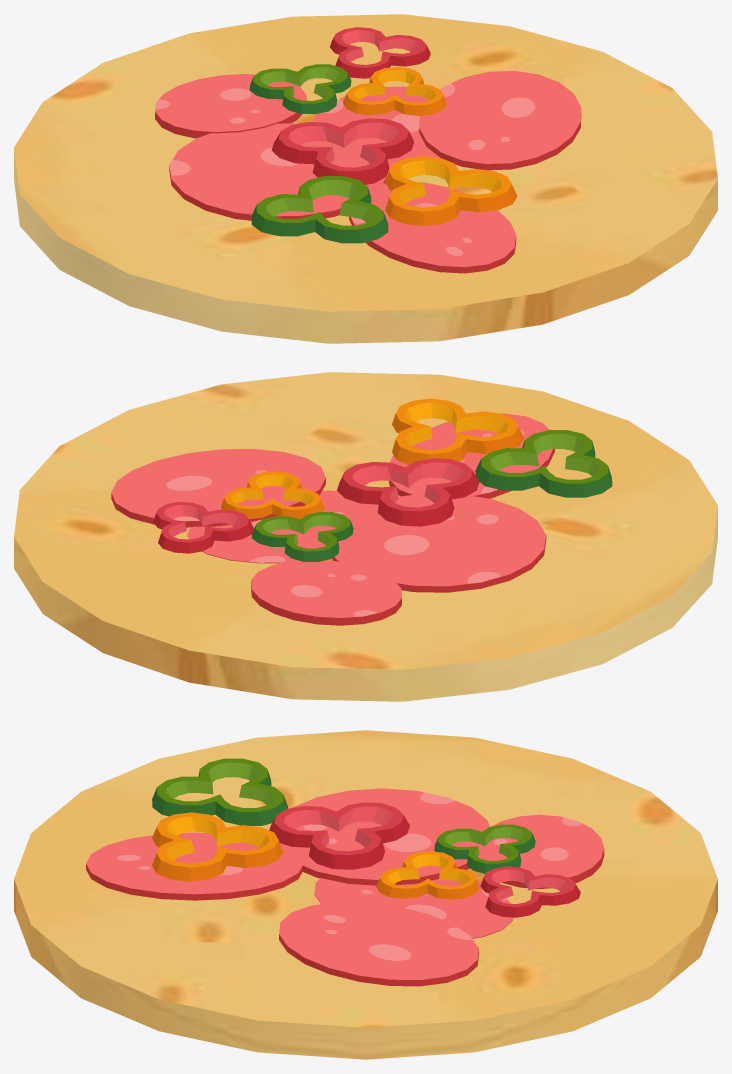
File: taco_Carne_Pimiento.glb
3 views of the same model, one above another, from view 1: azimuth 30°, elevation 25°; view 2: azimuth 150°, elevation 25°; view 3: azimuth 270°, elevation 25° (orthographic).
Parts seen in each view (by area): view 1: tortilla.002, Ham_Slice_Ham_0.002, Pepper_Slice_Pepper_0, Pepper_Slice_Pepper_0.001; view 2: tortilla.002, Ham_Slice_Ham_0.002, Pepper_Slice_Pepper_0, Pepper_Slice_Pepper_0.001; view 3: tortilla.002, Ham_Slice_Ham_0.002, Pepper_Slice_Pepper_0, Pepper_Slice_Pepper_0.001.
Boxes of the visible parts, <box> form: tortilla.002: <box>14,14,717,343</box>; Ham_Slice_Ham_0.002: <box>155,71,581,273</box>; Pepper_Slice_Pepper_0: <box>251,118,517,243</box>; Pepper_Slice_Pepper_0.001: <box>249,27,447,115</box>; tortilla.002: <box>14,372,717,701</box>; Ham_Slice_Ham_0.002: <box>111,413,554,625</box>; Pepper_Slice_Pepper_0: <box>337,398,612,526</box>; Pepper_Slice_Pepper_0.001: <box>153,471,353,561</box>; tortilla.002: <box>14,730,717,1059</box>; Ham_Slice_Ham_0.002: <box>86,788,604,986</box>; Pepper_Slice_Pepper_0: <box>152,758,409,881</box>; Pepper_Slice_Pepper_0.001: <box>376,824,580,917</box>.
Size of the model in its own units: 0.2118 by 0.023 by 0.2118.
Materials: 3 (3 with a texture image).
